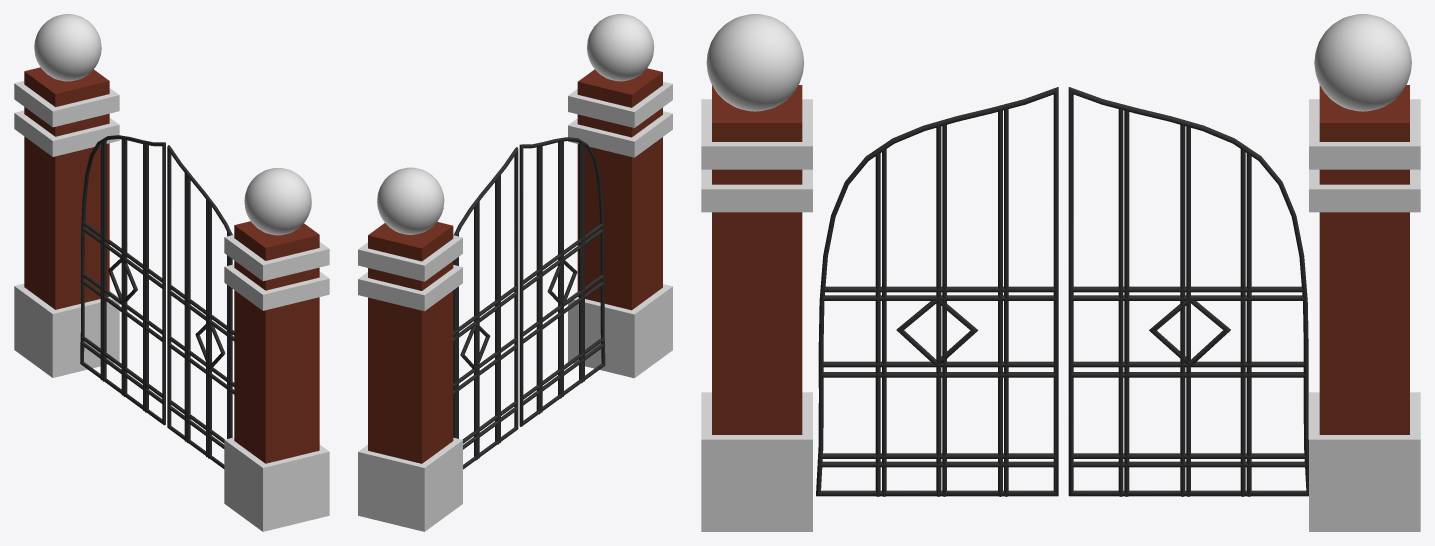
Rendered from e9c42538-c65c-4ccb-8669-848c74f7e458.glb.
3 views of the same model, side by side, from view 1: azimuth 30°, elevation 25°; view 2: azimuth 150°, elevation 25°; view 3: azimuth 270°, elevation 25° (orthographic). The views are drawn at different scales.
Visible parts, largest first — view 1: Box20179, Box20183, Line001, Line002, Box20182, Box20186, Sphere001, Sphere002, Box20180, Box20184, Box20181, Box20185; view 2: Box20183, Box20179, Line002, Line001, Box20186, Box20182, Sphere002, Sphere001, Box20184, Box20185, Box20181, Box20180; view 3: Line001, Line002, Box20179, Box20183, Box20182, Box20186, Sphere001, Sphere002, Box20181, Box20184, Box20180, Box20185.
Part boxes in pixels (x1,y1,x2,y2): Box20179: [234, 221, 319, 463]; Box20183: [24, 67, 109, 309]; Line001: [80, 135, 165, 425]; Line002: [167, 145, 234, 468]; Box20182: [224, 437, 329, 531]; Box20186: [14, 283, 119, 377]; Sphere001: [244, 168, 311, 235]; Sphere002: [34, 14, 101, 81]; Box20180: [224, 264, 329, 310]; Box20184: [14, 81, 119, 127]; Box20181: [224, 235, 329, 281]; Box20185: [14, 110, 119, 156]; Box20183: [368, 222, 453, 463]; Box20179: [577, 68, 662, 310]; Line002: [519, 137, 605, 426]; Line001: [453, 147, 518, 469]; Box20186: [358, 437, 462, 531]; Box20182: [568, 284, 672, 378]; Sphere002: [377, 167, 444, 234]; Sphere001: [587, 14, 654, 81]; Box20184: [358, 235, 462, 281]; Box20185: [358, 265, 462, 311]; Box20181: [568, 81, 672, 127]; Box20180: [568, 111, 672, 157]; Line001: [1068, 87, 1308, 496]; Line002: [816, 87, 1058, 496]; Box20179: [712, 85, 802, 434]; Box20183: [1319, 85, 1409, 434]; Box20182: [701, 392, 812, 531]; Box20186: [1309, 392, 1420, 531]; Sphere001: [706, 14, 803, 111]; Sphere002: [1314, 14, 1411, 111]; Box20181: [701, 99, 812, 169]; Box20184: [1309, 99, 1420, 169]; Box20180: [701, 169, 812, 212]; Box20185: [1309, 169, 1420, 212].
Bounding box in the file's own units: 79.9 × 388 × 516.
